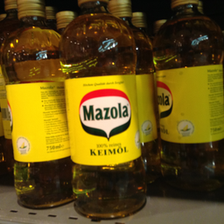oil: (56, 1, 147, 221), (2, 1, 75, 210), (151, 1, 224, 191)
